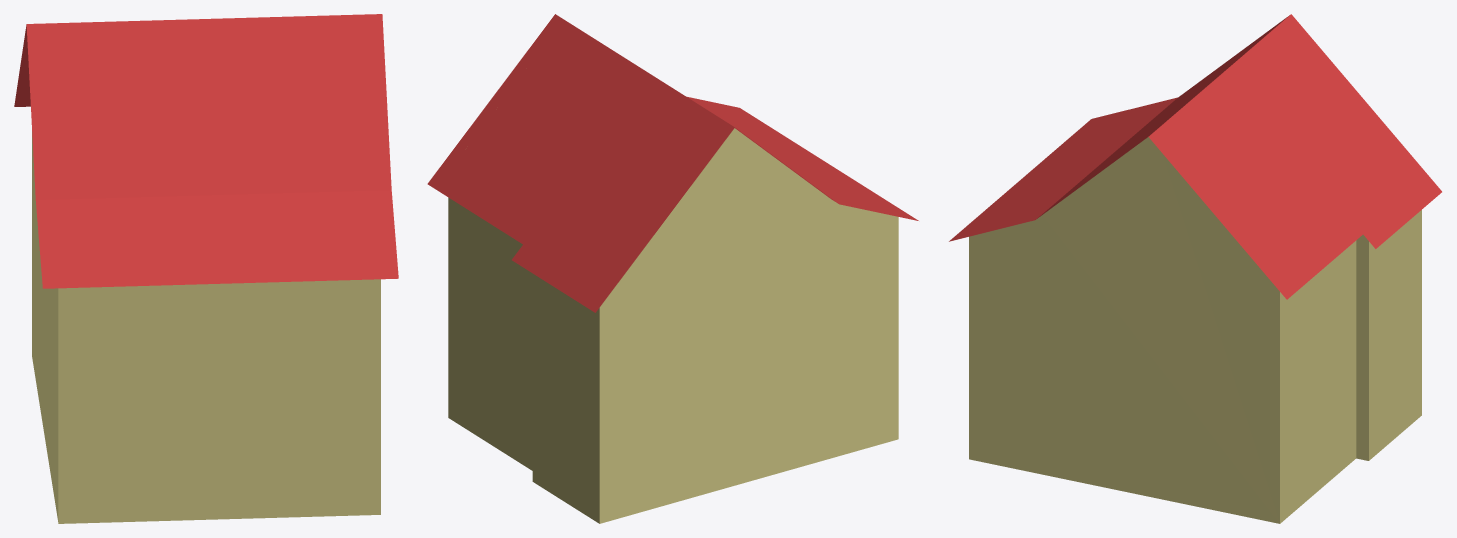
3 views of the same model, side by side, from view 1: azimuth 30°, elevation 25°; view 2: azimuth 150°, elevation 25°; view 3: azimuth 270°, elevation 25° (orthographic). The views are drawn at different scales.
Bounding box in the file's own units: 15.01 × 16.23 × 13.3.
